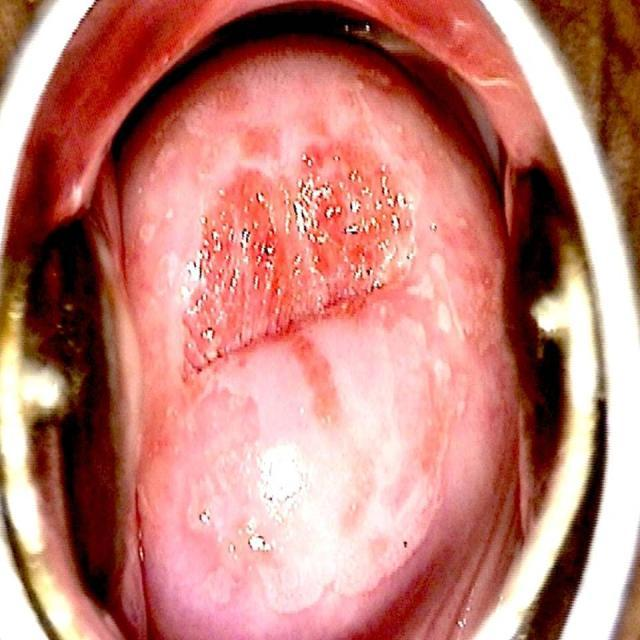cervical_lesion: (171, 132, 469, 620)
